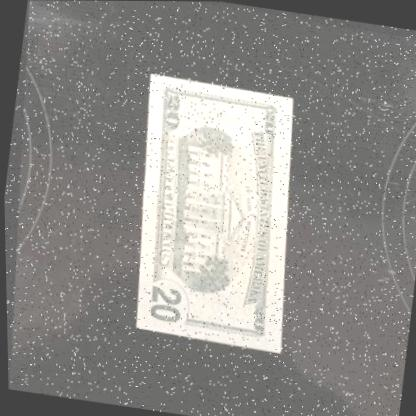twenty-back: (110, 71, 313, 353)
